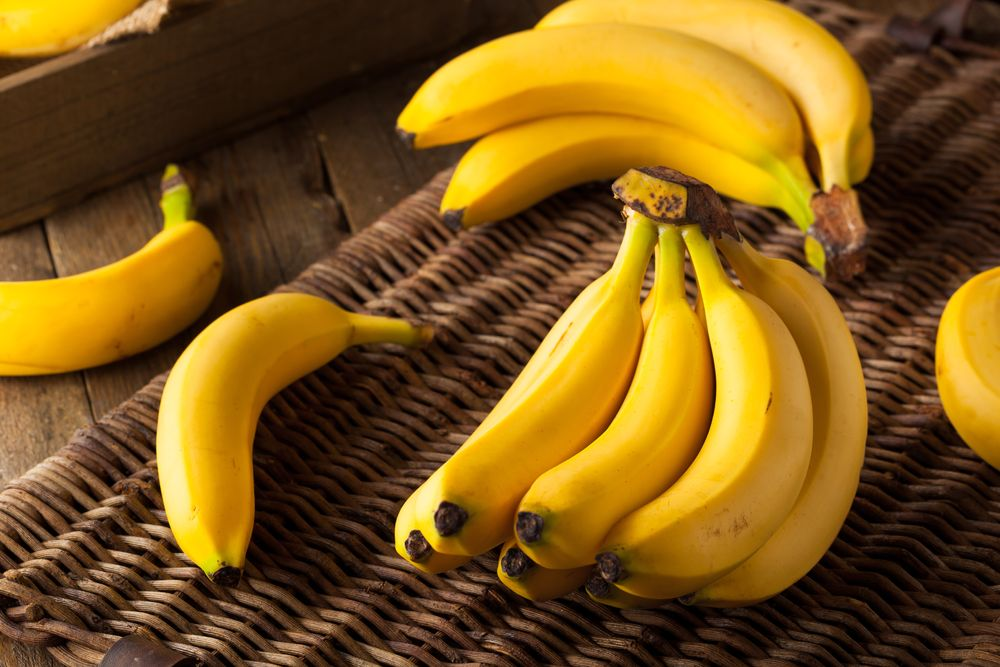banana: (385, 168, 866, 606)
